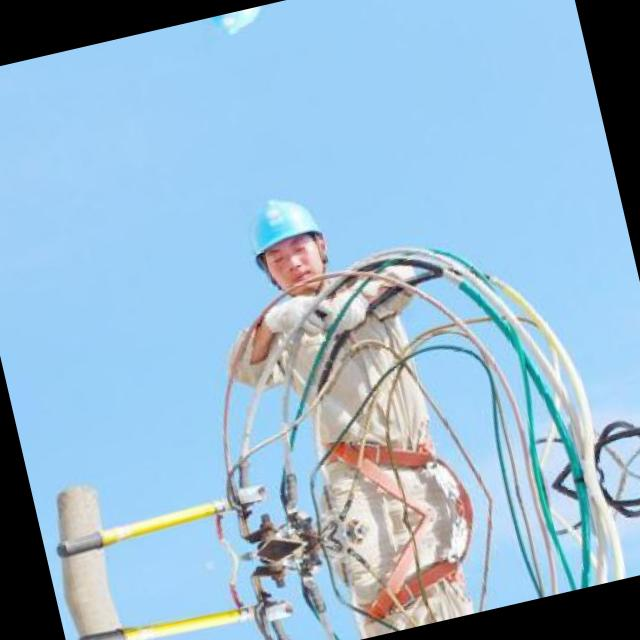helmet: (227, 172, 350, 318), (186, 0, 290, 56)
